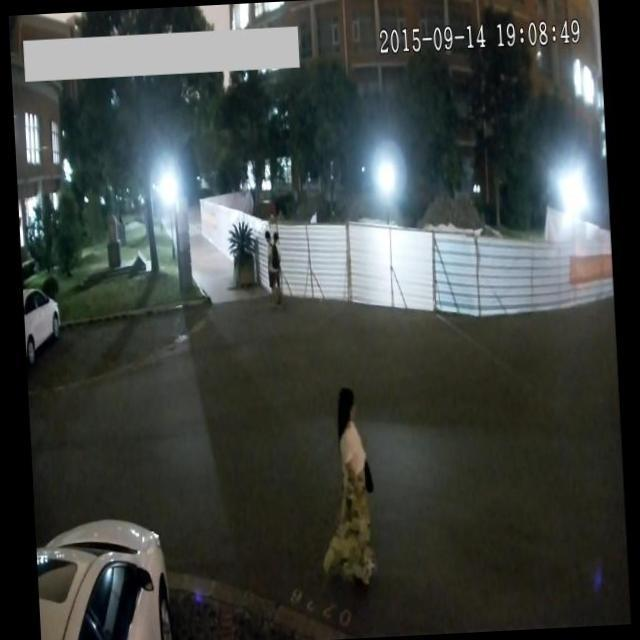person: (312, 383, 382, 592), (264, 228, 277, 300)
